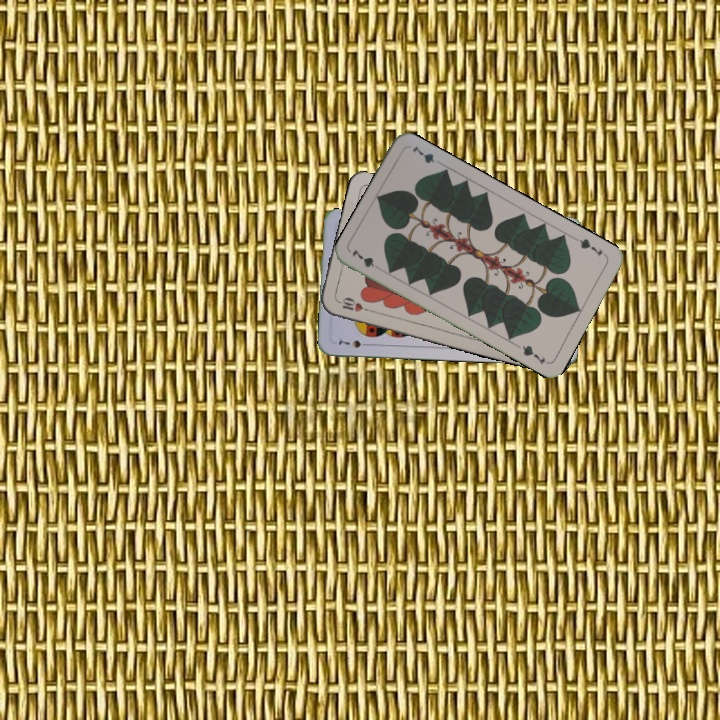G7: (347, 244, 385, 273), (571, 234, 605, 259)
H10: (333, 294, 373, 314)
S7: (333, 336, 373, 350)
